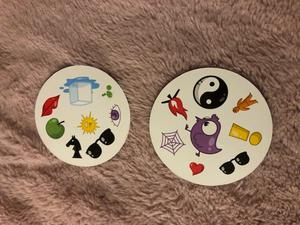bonhomme: (229, 92, 259, 114)
bouche: (41, 94, 61, 118)
cheval: (66, 133, 86, 159)
coeur: (187, 161, 206, 177)
feu: (159, 88, 190, 121)
glacon: (61, 74, 99, 107)
lunette: (85, 128, 116, 159), (219, 149, 251, 174)
oeuil: (107, 102, 124, 129)
oiseau: (183, 113, 224, 156)
point_exclamation: (227, 121, 263, 146)
pomme: (42, 116, 69, 140)
soleil: (75, 110, 101, 137)
tache: (98, 81, 116, 102)
toile: (158, 128, 187, 156)
ying_yang: (192, 73, 229, 109)
